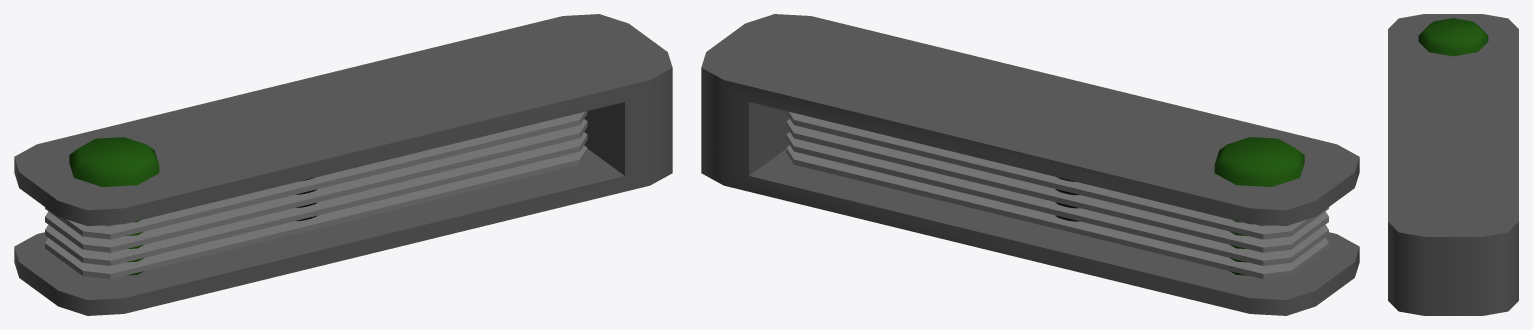
File: FeelerGaugeSetMesh.fbx
3 views of the same model, side by side, from view 1: azimuth 30°, elevation 25°; view 2: azimuth 150°, elevation 25°; view 3: azimuth 270°, elevation 25° (orthographic). The views are drawn at different scales.
Visible parts, largest first — view 1: FeelerGaugeSetMesh; view 2: FeelerGaugeSetMesh; view 3: FeelerGaugeSetMesh.
Boxes of the visible parts, left/top/right/bottom form: FeelerGaugeSetMesh: left=14, top=14, right=672, bottom=315; FeelerGaugeSetMesh: left=701, top=14, right=1359, bottom=315; FeelerGaugeSetMesh: left=1388, top=14, right=1518, bottom=315.
Bounding box in the file's own units: 12.08 × 2.6 × 3.
